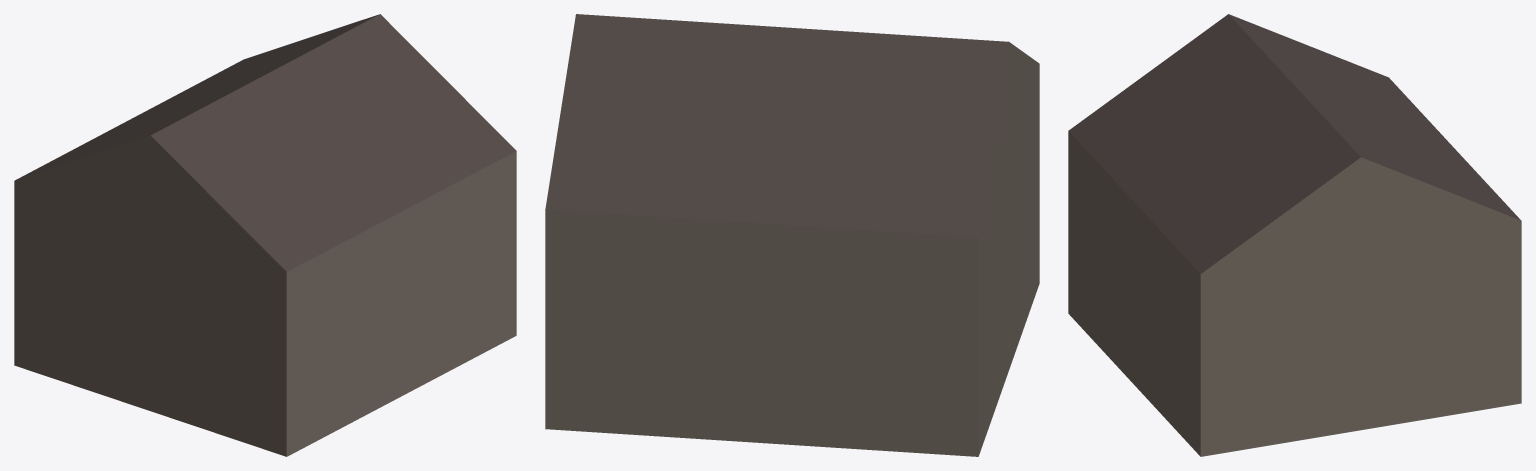
3 views of the same model, side by side, from view 1: azimuth 30°, elevation 25°; view 2: azimuth 150°, elevation 25°; view 3: azimuth 270°, elevation 25° (orthographic). The views are drawn at different scales.
Visible parts, largest first — view 1: HP-w859078918; view 2: HP-w859078918; view 3: HP-w859078918.
Boxes of the visible parts, x1=… form: HP-w859078918: x1=14, y1=14, x2=516, y2=456; HP-w859078918: x1=545, y1=14, x2=1039, y2=456; HP-w859078918: x1=1068, y1=14, x2=1521, y2=456.
Size of the model in its own units: 13.85 by 8.96 by 13.48.
